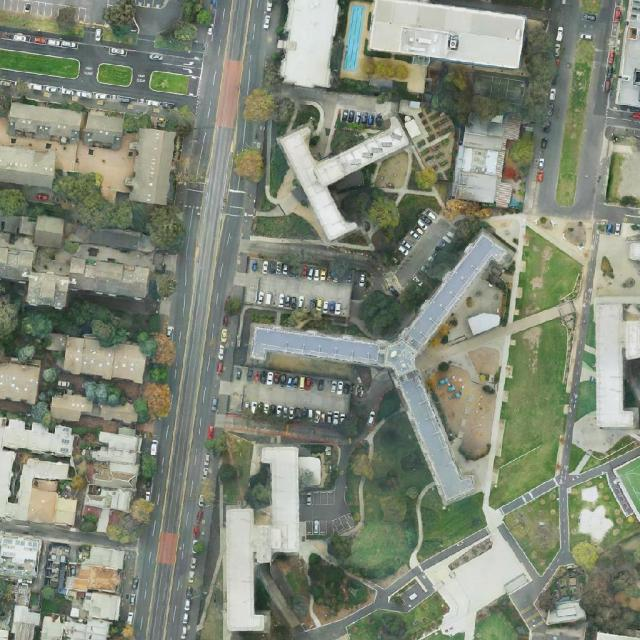building: (242, 237, 580, 550), (277, 86, 436, 243), (210, 438, 314, 639), (411, 526, 543, 640), (367, 0, 527, 71), (0, 417, 78, 526), (81, 424, 143, 535), (451, 111, 522, 207), (278, 0, 340, 90), (60, 331, 149, 386), (0, 534, 41, 640), (50, 393, 139, 425), (43, 542, 81, 593), (46, 332, 66, 353), (0, 628, 10, 640)
dryland: (606, 143, 640, 205)
greenland: (350, 198, 493, 346), (344, 407, 443, 587), (489, 314, 578, 514), (0, 281, 163, 385), (547, 468, 640, 563), (501, 484, 590, 575), (554, 39, 596, 208), (514, 227, 586, 324), (292, 552, 373, 626), (419, 487, 488, 561), (426, 61, 491, 127), (375, 182, 442, 244), (519, 25, 560, 125), (337, 179, 407, 235), (136, 332, 176, 423), (237, 83, 298, 136), (201, 432, 254, 489), (358, 53, 429, 95), (344, 440, 375, 523), (0, 49, 81, 80), (28, 364, 61, 426), (70, 427, 101, 493), (255, 212, 319, 239), (328, 120, 366, 159), (371, 387, 407, 426), (566, 537, 604, 573), (103, 514, 140, 550), (443, 198, 492, 224), (81, 380, 127, 407), (168, 105, 195, 149), (245, 466, 272, 509), (125, 495, 156, 531), (336, 410, 369, 443), (292, 101, 324, 135), (412, 163, 445, 193), (270, 144, 289, 196), (40, 585, 71, 616), (235, 149, 264, 182), (80, 505, 100, 534), (156, 273, 178, 298), (56, 6, 76, 32), (124, 114, 151, 133), (140, 452, 158, 480)
metalled_road: (533, 0, 620, 222), (554, 252, 597, 475), (216, 363, 354, 430), (230, 253, 357, 323), (215, 405, 350, 442), (0, 514, 117, 554), (561, 447, 640, 489), (419, 527, 490, 570), (498, 474, 564, 517), (496, 522, 540, 581), (294, 487, 353, 531), (510, 576, 545, 639), (602, 468, 637, 517), (0, 0, 65, 22), (325, 442, 352, 494), (555, 469, 570, 561), (224, 378, 290, 392), (597, 202, 640, 222), (76, 7, 87, 22)
unmetalled_road: (425, 300, 578, 366), (480, 334, 512, 531), (404, 479, 436, 570), (262, 168, 313, 219), (193, 553, 225, 634), (511, 214, 527, 292), (293, 200, 324, 227), (507, 284, 518, 324)
